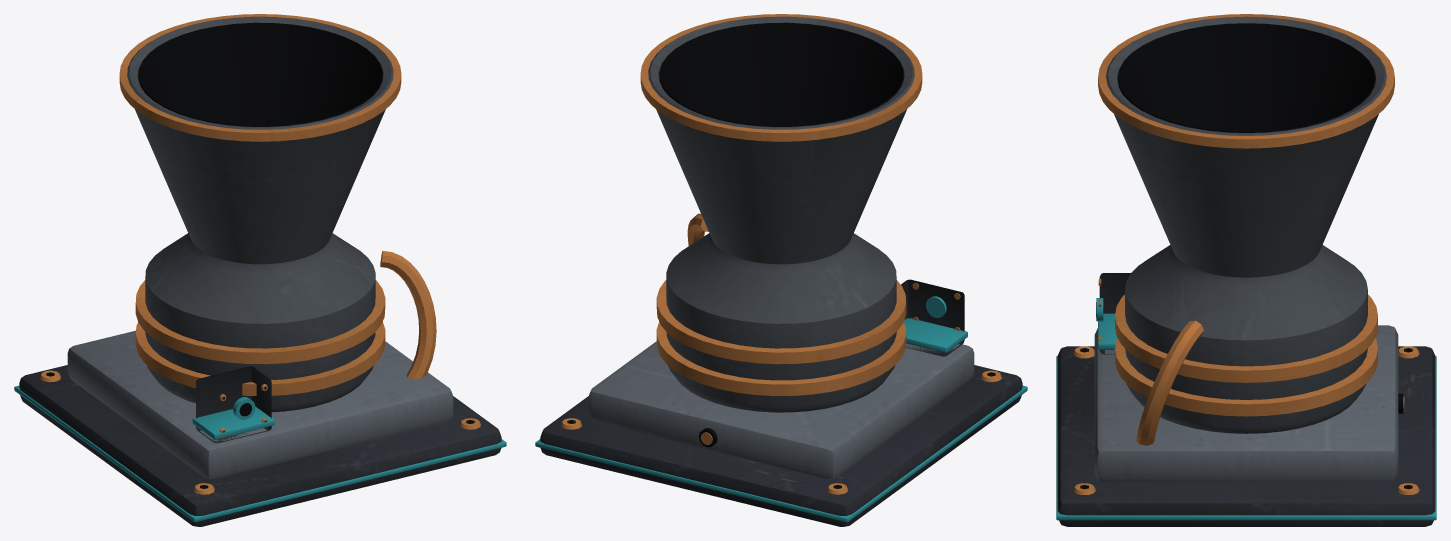
The model's file is thruster_1.glb.
3 views of the same model, side by side, from view 1: azimuth 30°, elevation 25°; view 2: azimuth 150°, elevation 25°; view 3: azimuth 270°, elevation 25° (orthographic). The views are drawn at different scales.
Visible parts, largest first — view 1: Body; view 2: Body; view 3: Body.
Boxes of the visible parts, x1,y1,x2,y2 form: Body: (14,14,506,526); Body: (535,14,1027,526); Body: (1056,14,1436,526).
Size of the model in its own units: 0.2256 by 0.246 by 0.2256.
7 materials, 4 textured.
